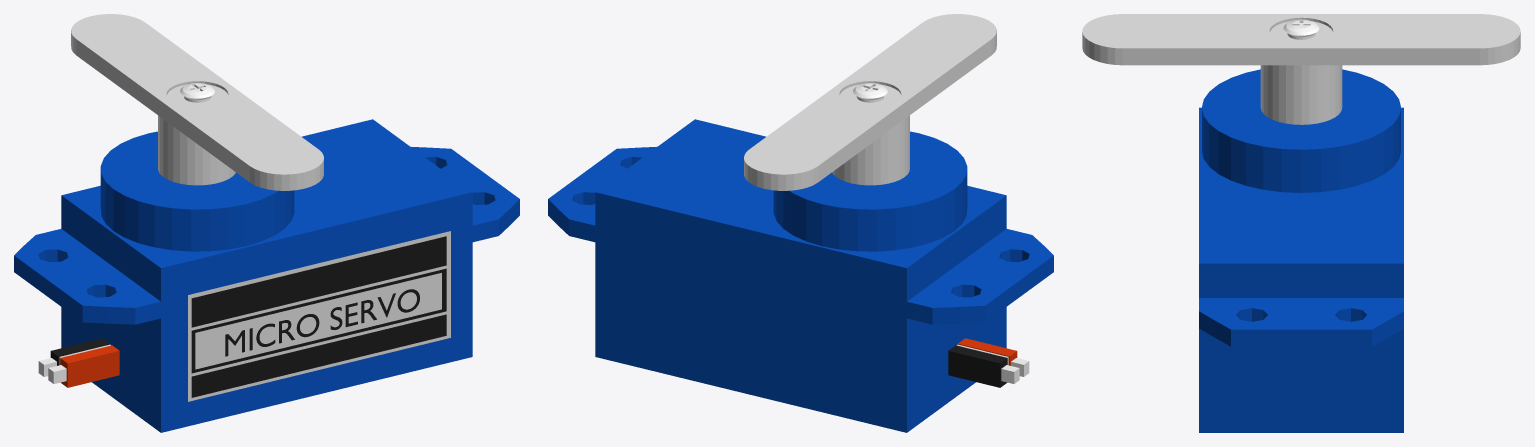
File: MicroServo.glb
3 views of the same model, side by side, from view 1: azimuth 30°, elevation 25°; view 2: azimuth 150°, elevation 25°; view 3: azimuth 270°, elevation 25° (orthographic). The views are drawn at different scales.
Parts seen in each view (by area): view 1: Micro Servo, Micro Servo.001, Micro Servo.002, Text; view 2: Micro Servo, Micro Servo.002; view 3: Micro Servo, Micro Servo.002.
Boxes of the visible parts, x1,y1,x2,y2 form: Micro Servo: (14, 119, 519, 432); Micro Servo.001: (188, 231, 450, 401); Micro Servo.002: (71, 14, 323, 190); Text: (225, 289, 419, 356); Micro Servo: (548, 119, 1053, 432); Micro Servo.002: (744, 14, 996, 190); Micro Servo: (1199, 69, 1403, 432); Micro Servo.002: (1082, 14, 1520, 124).
Bounding box in the file's own units: 0.7597 × 0.4751 × 0.6389.
